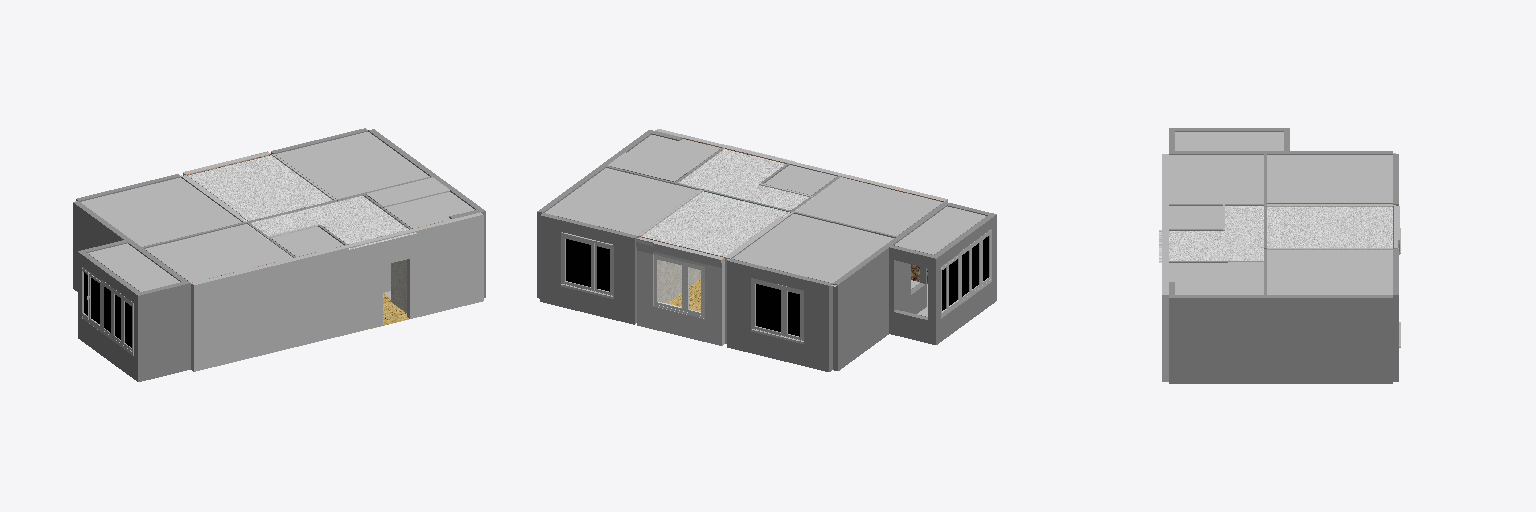
3 views of the same model, side by side, from view 1: azimuth 30°, elevation 25°; view 2: azimuth 150°, elevation 25°; view 3: azimuth 270°, elevation 25° (orthographic).
Visible parts, largest first — view 1: Framework_Cube.043, Ceiling.002.fl.001_Plane.002, Ceiling.004.fl.001_Plane.004, Ceiling.003.fl.001_Plane.003, Ceiling.005_Kitchen.001_Plane.005, Ceiling.006_Koridor.001_Plane.006, Ceiling.001_Balcony.001_Plane.015, Ceiling.009_bathroom.001_Plane.027, Ceiling.007_toilet.001_Plane.025, Ceiling.008.fl.001_Plane.026, Window_frame.003_Untitled.021, Glass.003_Untitled.017 (+2 smaller); view 2: Framework_Cube.043, Ceiling.002.fl.001_Plane.002, Ceiling.004.fl.001_Plane.004, Ceiling.003.fl.001_Plane.003, Ceiling.005_Kitchen.001_Plane.005, Ceiling.006_Koridor.001_Plane.006, Ceiling.001_Balcony.001_Plane.015, Ceiling.009_bathroom.001_Plane.027, Glass.002_Untitled.006, Glass_Untitled.007, Window_frame.002_Untitled.011, Window_frame_Untitled.010 (+8 smaller); view 3: Framework_Cube.043, Ceiling.002.fl.001_Plane.002, Ceiling.004.fl.001_Plane.004, Ceiling.003.fl.001_Plane.003, Ceiling.005_Kitchen.001_Plane.005, Ceiling.006_Koridor.001_Plane.006, Ceiling.001_Balcony.001_Plane.015, Ceiling.009_bathroom.001_Plane.027, Ceiling.007_toilet.001_Plane.025, Ceiling.008.fl.001_Plane.026.
Part boxes in pixels (left/top/right/bottom): Framework_Cube.043: left=73, top=128, right=485, bottom=381; Ceiling.002.fl.001_Plane.002: left=75, top=175, right=241, bottom=246; Ceiling.004.fl.001_Plane.004: left=275, top=132, right=429, bottom=198; Ceiling.003.fl.001_Plane.003: left=188, top=155, right=332, bottom=221; Ceiling.005_Kitchen.001_Plane.005: left=145, top=224, right=292, bottom=282; Ceiling.006_Koridor.001_Plane.006: left=248, top=196, right=416, bottom=249; Ceiling.001_Balcony.001_Plane.015: left=88, top=243, right=179, bottom=291; Ceiling.009_bathroom.001_Plane.027: left=385, top=192, right=474, bottom=228; Ceiling.007_toilet.001_Plane.025: left=271, top=227, right=343, bottom=256; Ceiling.008.fl.001_Plane.026: left=367, top=177, right=449, bottom=206; Window_frame.003_Untitled.021: left=101, top=280, right=133, bottom=355; Glass.003_Untitled.017: left=104, top=287, right=131, bottom=347; Framework_Cube.043: left=537, top=129, right=996, bottom=371; Ceiling.002.fl.001_Plane.002: left=727, top=214, right=893, bottom=286; Ceiling.004.fl.001_Plane.004: left=545, top=168, right=698, bottom=235; Ceiling.003.fl.001_Plane.003: left=642, top=191, right=789, bottom=256; Ceiling.005_Kitchen.001_Plane.005: left=795, top=177, right=942, bottom=235; Ceiling.006_Koridor.001_Plane.006: left=679, top=145, right=812, bottom=209; Ceiling.001_Balcony.001_Plane.015: left=895, top=206, right=985, bottom=254; Ceiling.009_bathroom.001_Plane.027: left=627, top=135, right=720, bottom=169; Glass.002_Untitled.006: left=566, top=239, right=609, bottom=291; Glass_Untitled.007: left=756, top=284, right=799, bottom=336; Window_frame.002_Untitled.011: left=561, top=232, right=613, bottom=298; Window_frame_Untitled.010: left=751, top=278, right=803, bottom=343; Framework_Cube.043: left=1162, top=128, right=1399, bottom=383; Ceiling.002.fl.001_Plane.002: left=1267, top=153, right=1395, bottom=205; Ceiling.004.fl.001_Plane.004: left=1267, top=250, right=1392, bottom=294; Ceiling.003.fl.001_Plane.003: left=1267, top=207, right=1392, bottom=247; Ceiling.005_Kitchen.001_Plane.005: left=1169, top=155, right=1263, bottom=203; Ceiling.006_Koridor.001_Plane.006: left=1159, top=206, right=1263, bottom=262; Ceiling.001_Balcony.001_Plane.015: left=1175, top=132, right=1283, bottom=150; Ceiling.009_bathroom.001_Plane.027: left=1169, top=263, right=1227, bottom=294; Ceiling.007_toilet.001_Plane.025: left=1169, top=206, right=1222, bottom=228; Ceiling.008.fl.001_Plane.026: left=1228, top=262, right=1263, bottom=294.
Bounding box in the file's own units: 12.63 × 3.01 × 7.59.
Materials: 72 (6 with a texture image).